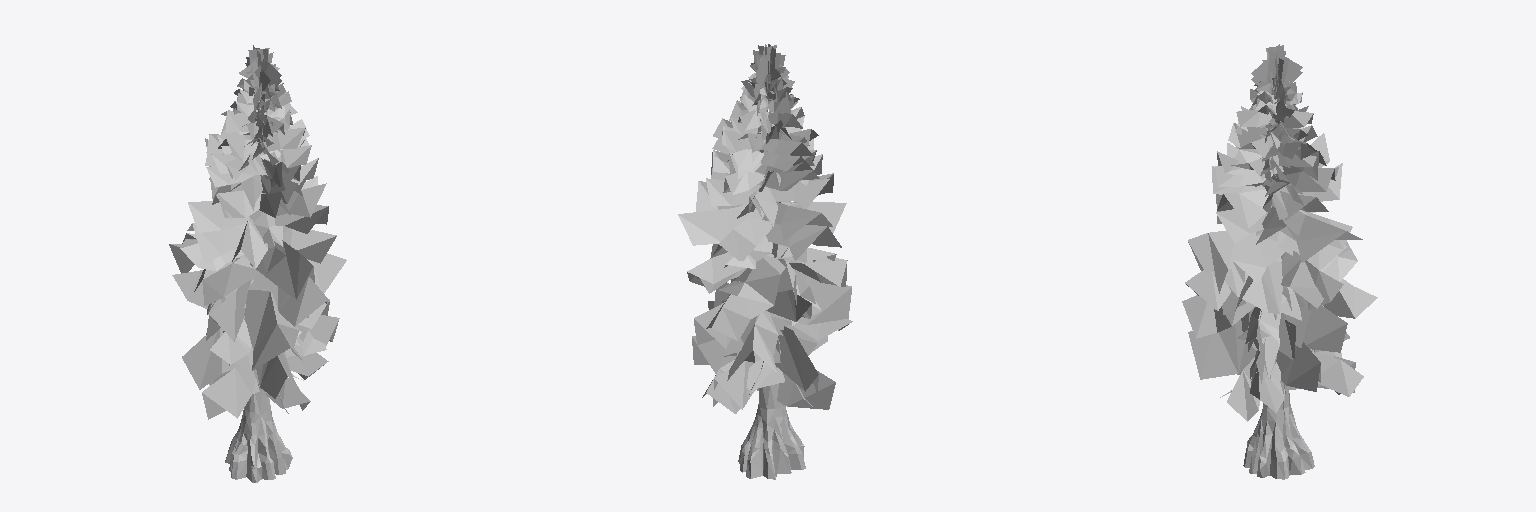
Rendered from treepineforest01.obj.
3 views of the same model, side by side, from view 1: azimuth 30°, elevation 25°; view 2: azimuth 150°, elevation 25°; view 3: azimuth 270°, elevation 25° (orthographic).
Parts seen in each view (by area): view 1: Treepineforestsnow04; view 2: Treepineforestsnow04; view 3: Treepineforestsnow04.
Boxes of the visible parts, <box> form: Treepineforestsnow04: <box>169,45,346,482</box>; Treepineforestsnow04: <box>678,44,852,479</box>; Treepineforestsnow04: <box>1182,44,1377,479</box>.
Size of the model in its own units: 823 by 2285 by 965.